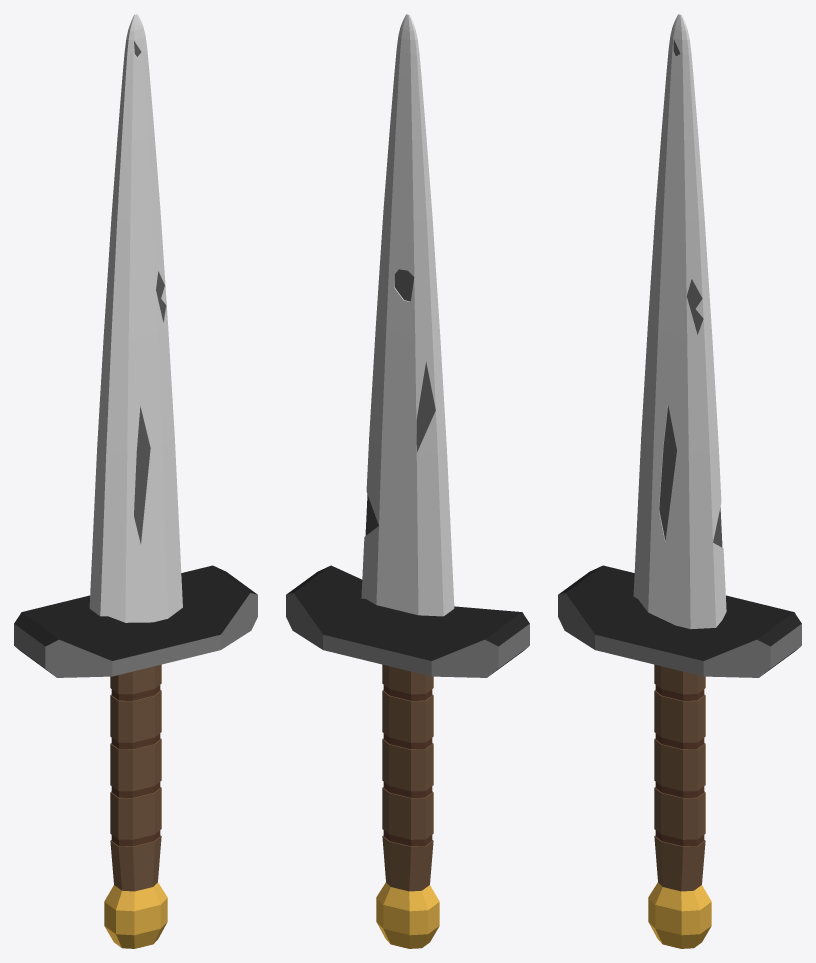
Rendered from Armas_inimigos.fbx.
3 views of the same model, side by side, from view 1: azimuth 30°, elevation 25°; view 2: azimuth 150°, elevation 25°; view 3: azimuth 330°, elevation 25° (orthographic).
Parts seen in each view (by area): view 1: Cube; view 2: Cube; view 3: Cube.
Part boxes in pixels (left/top/right/bottom): Cube: left=14, top=14, right=257, bottom=948; Cube: left=286, top=14, right=529, bottom=948; Cube: left=558, top=14, right=801, bottom=948.
Size of the model in its own units: 30 by 125 by 15.
